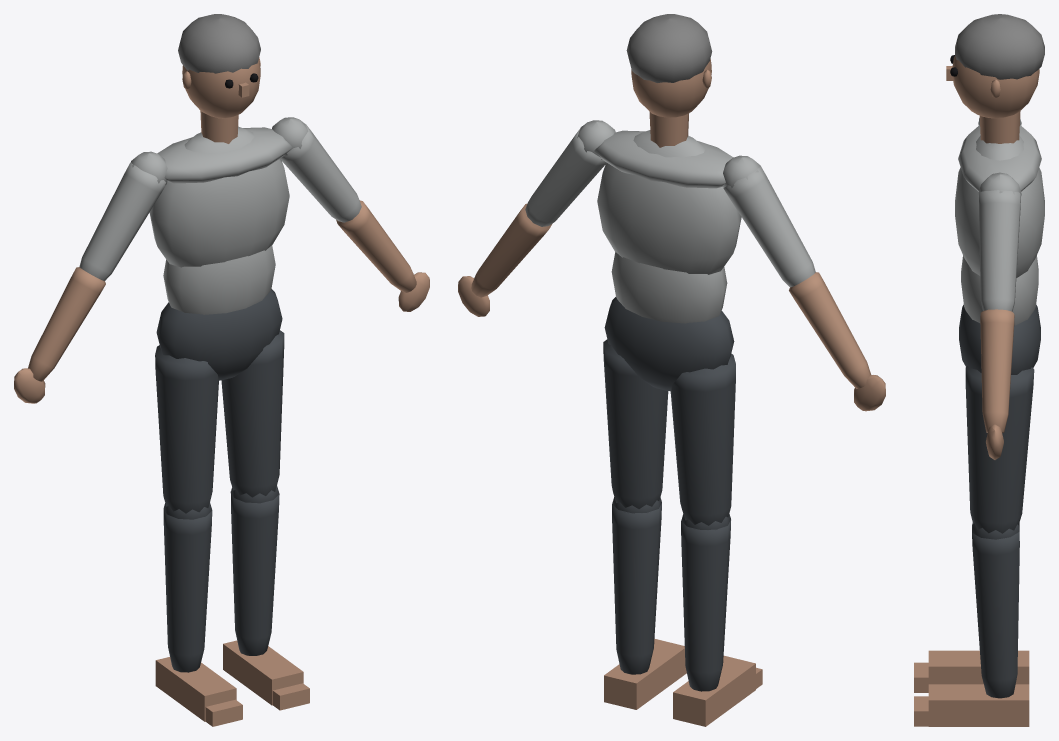
File: Tomas.obj
The picture shows the model from 3 angles, left to right: view 1: azimuth 30°, elevation 25°; view 2: azimuth 150°, elevation 25°; view 3: azimuth 270°, elevation 25°; orthographic projection. The views are drawn at different scales.
Visible parts, largest first — view 1: Tomas; view 2: Tomas; view 3: Tomas.
Part boxes in pixels (<box>): Tomas: <box>14,14,429,726</box>; Tomas: <box>458,14,885,726</box>; Tomas: <box>914,14,1044,726</box>.
Size of the model in its own units: 1.21 by 1.85 by 0.3212.
